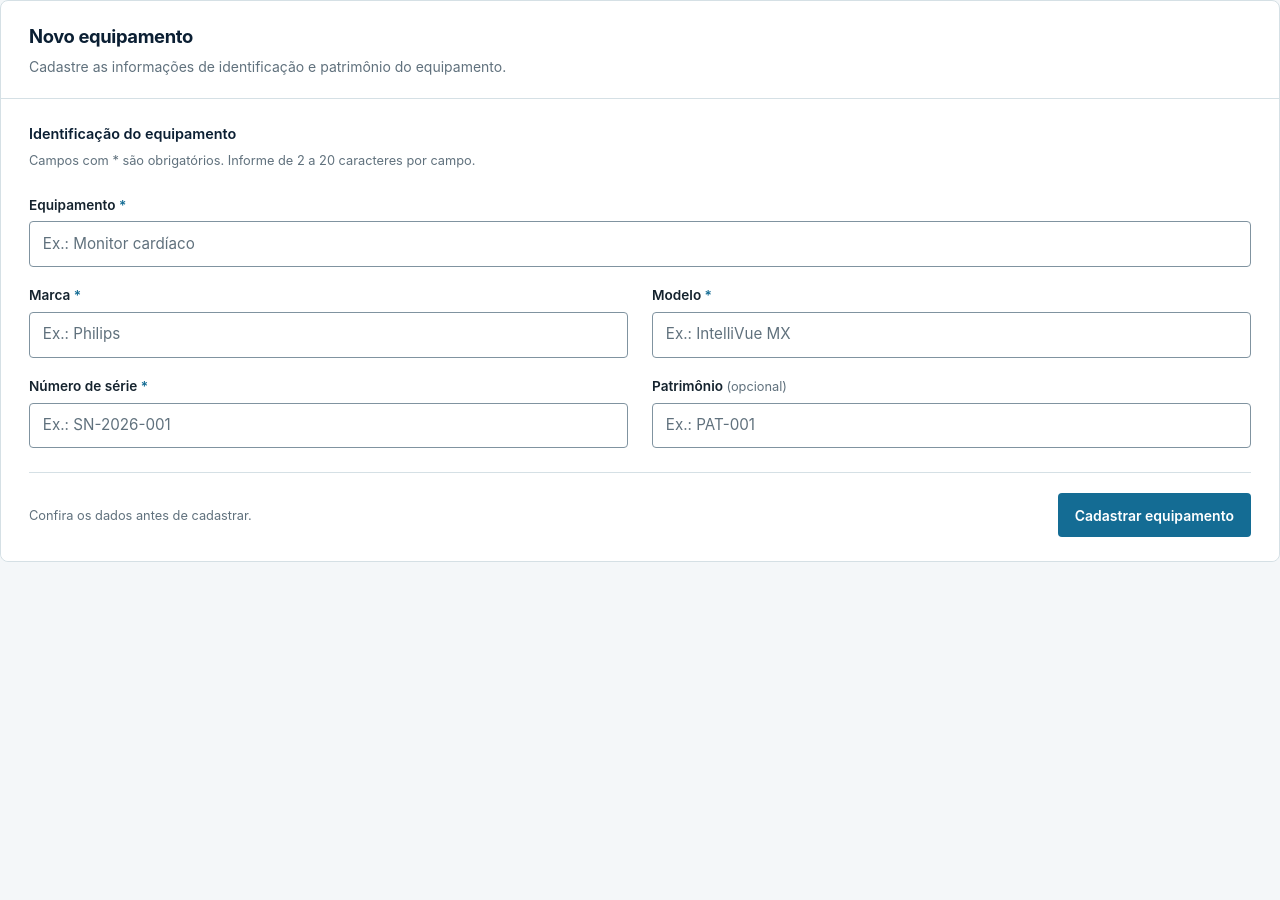
Test: omite o patrimônio vazio do envio e permite cadastrar sem ele
Type "Monitor cardíaco" into the field labelled "Equipamento" at (640, 244), box [29, 221, 1251, 267]
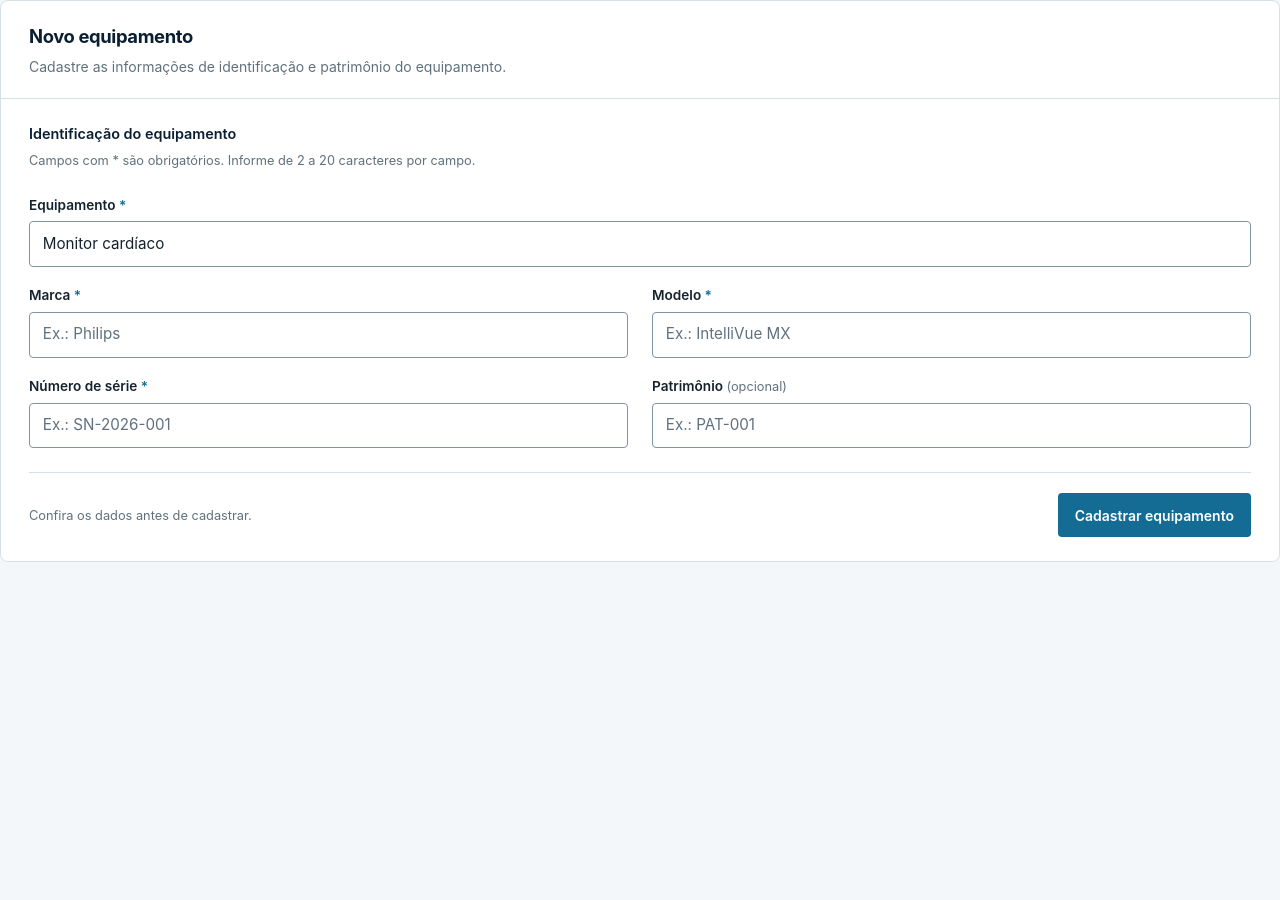
Type "Philips" into the field labelled "Marca" at (328, 335), box [29, 312, 628, 358]
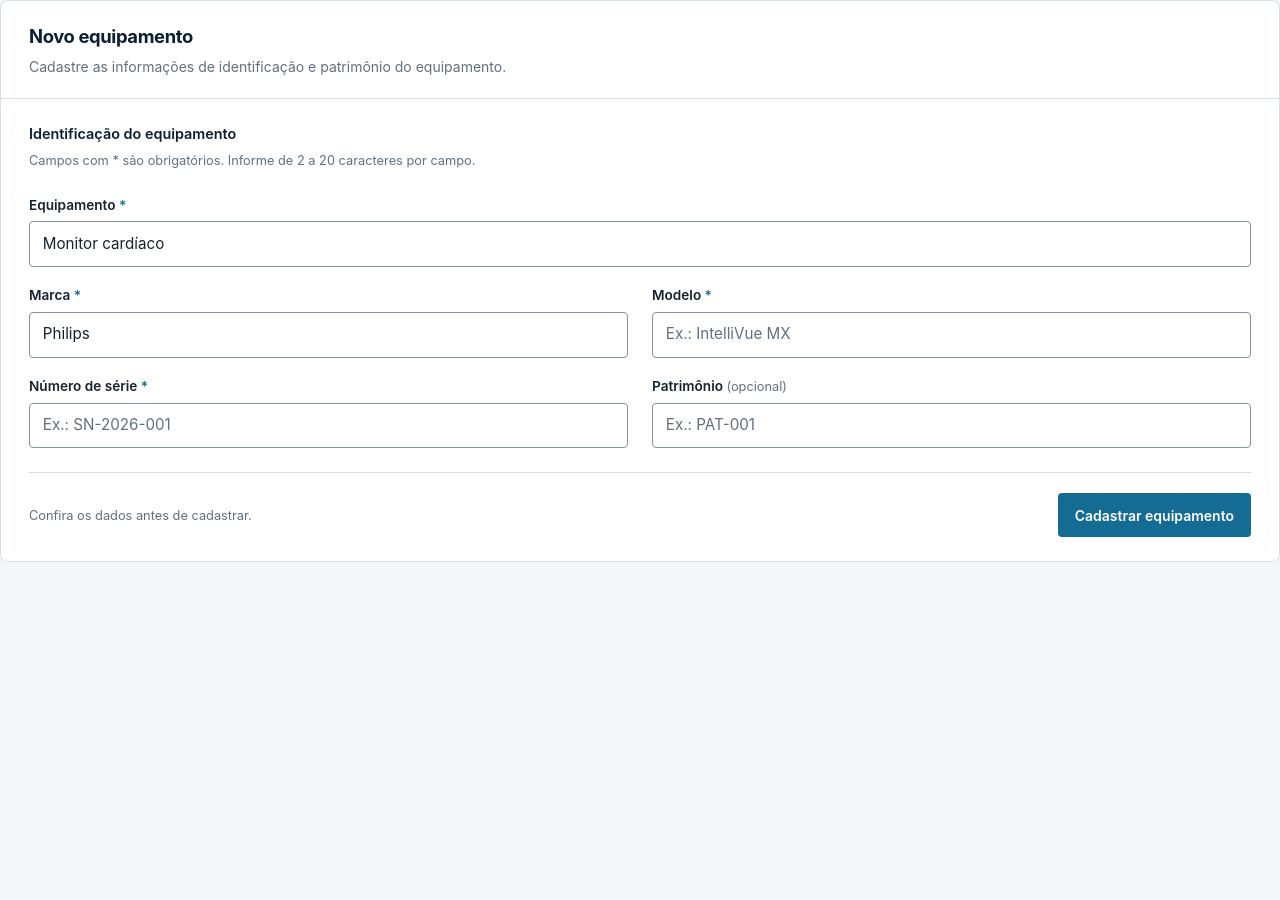
Type "IntelliVue MX" into the field labelled "Modelo" at (952, 335), box [652, 312, 1251, 358]
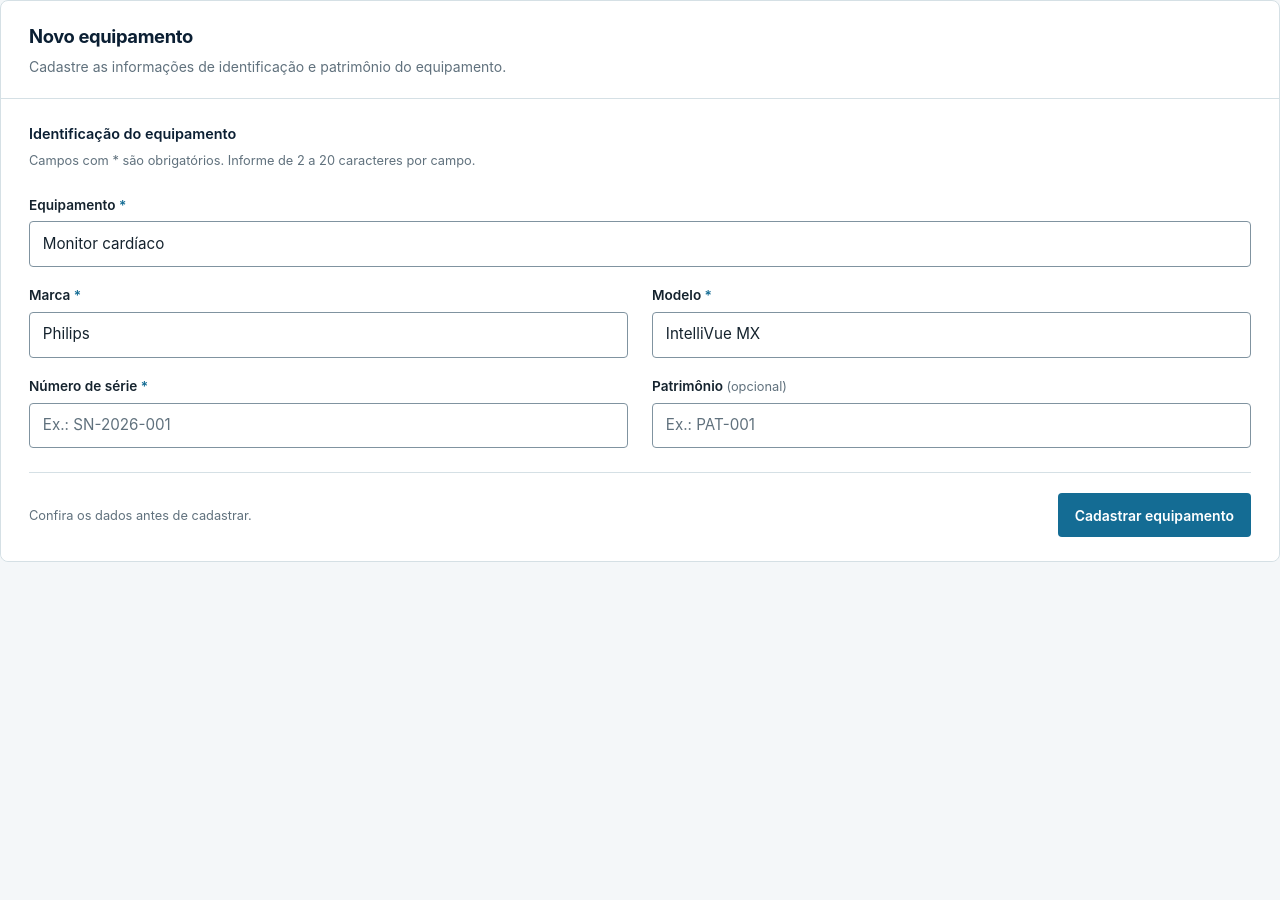
Type "SN-2026-001" into the field labelled "Número de série" at (328, 426), box [29, 403, 628, 448]
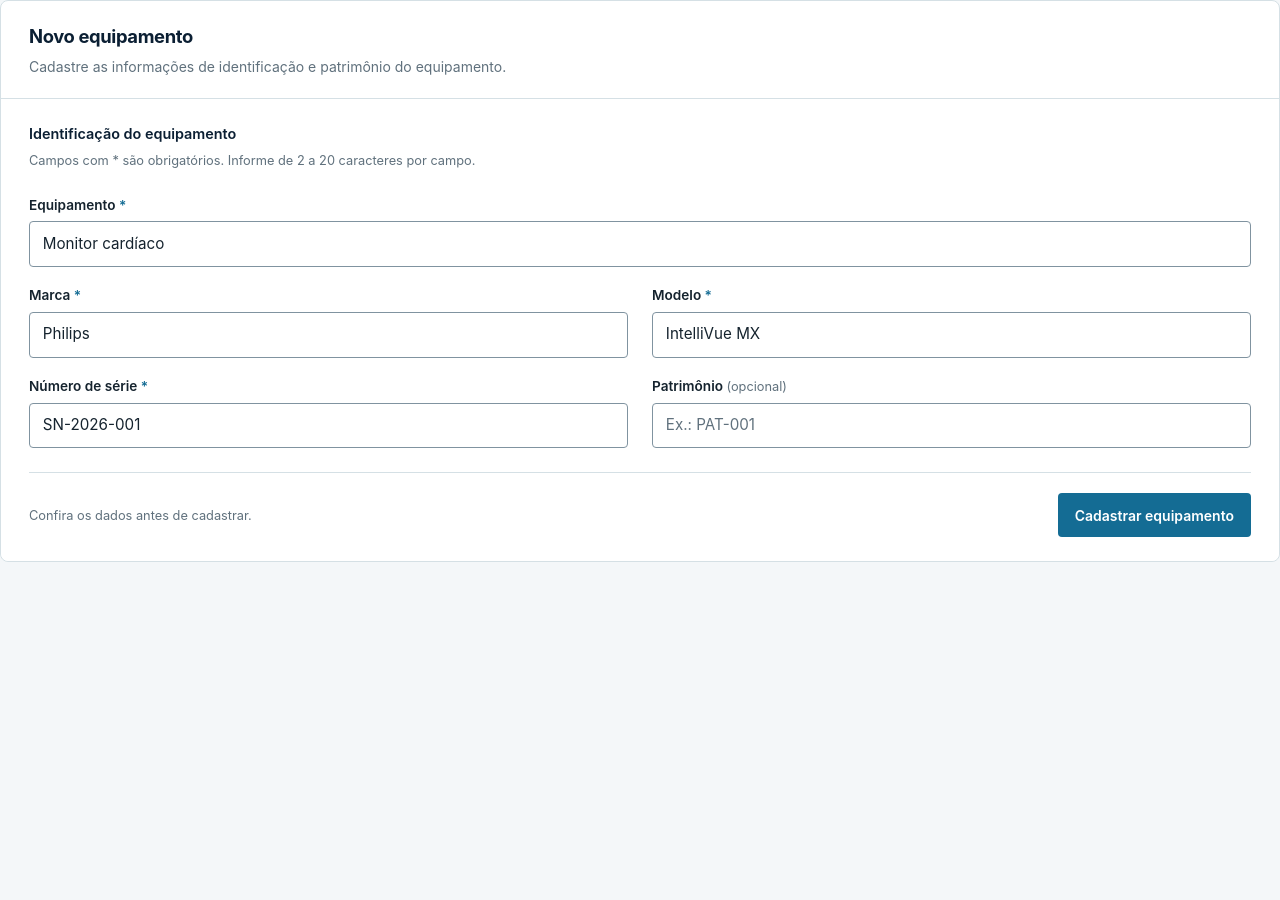
Click the button "Cadastrar equipamento" at (1154, 515), box [1058, 493, 1251, 537]
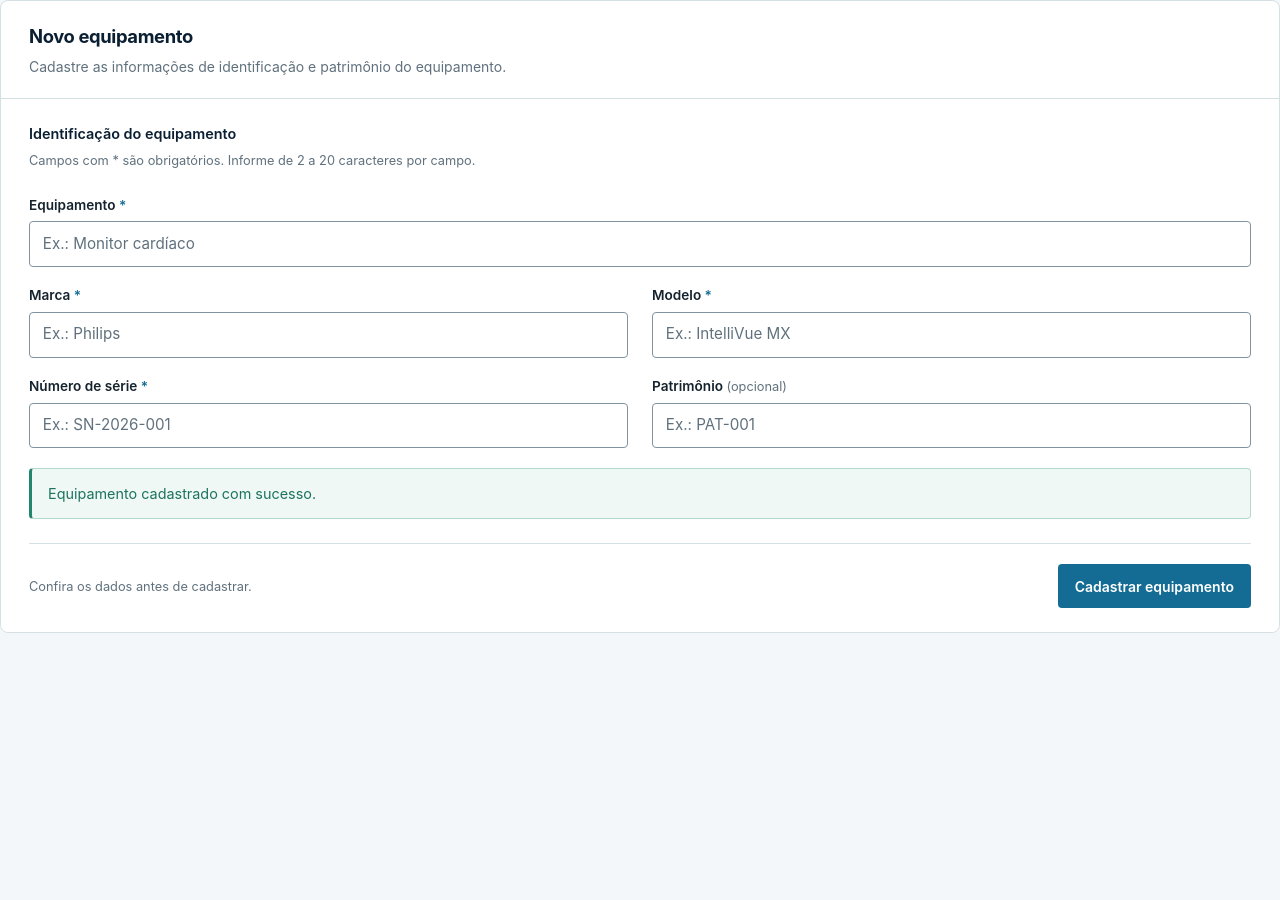
expect the text "Equipamento cadastrado com sucesso." is shown: met, box [29, 468, 1251, 519]
